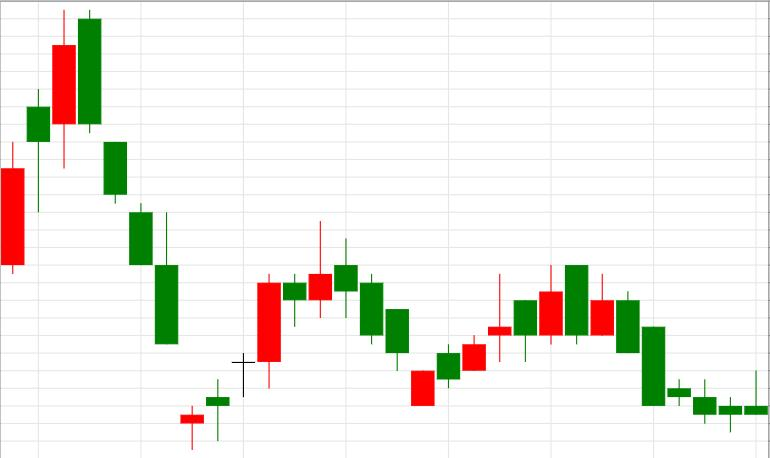bearish_engulfing_fall: (411, 265, 588, 406)
shooting_star_fall: (180, 221, 332, 451)
three_black_crows_fall: (1, 8, 152, 274)
